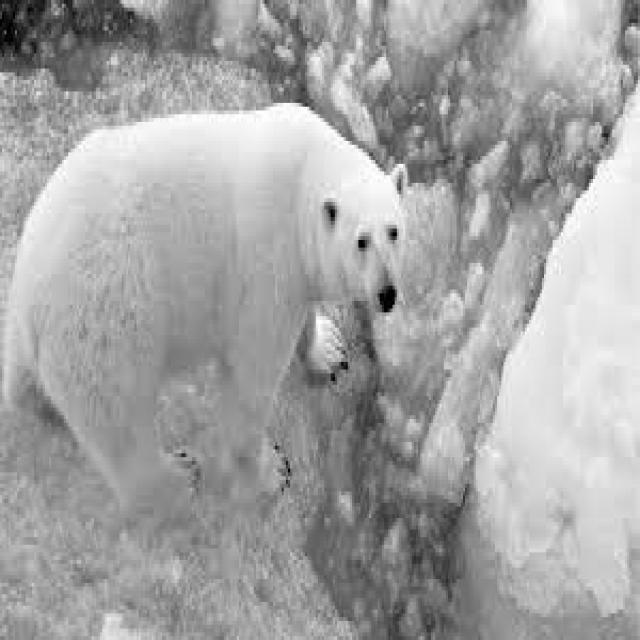Bear: (26, 156, 420, 489)
